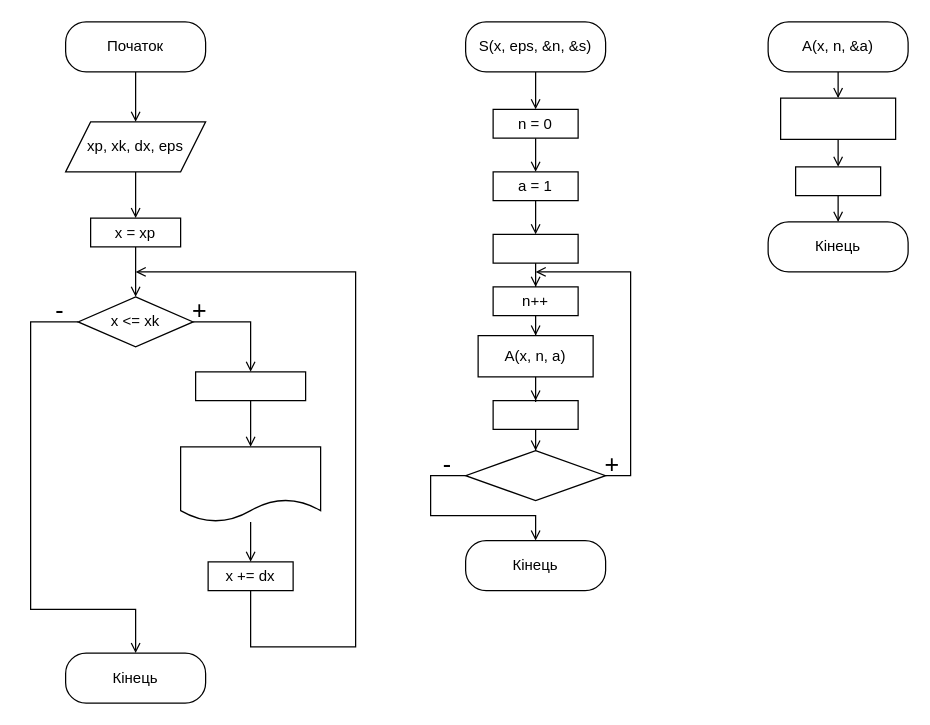
This 930x725 diagram has some shape labels left out. Here are the shapes that lost their labels. From the top down, the centre of each, then its label:
point (837, 118): R = -(x*x)/n
point (837, 181): a *= R
point (535, 248): S = a
point (250, 386): S(x, eps, n, s)
point (535, 414): S += a
point (250, 484): x, exp(-(x*x)), S, n
point (535, 475): abs(a) >= eps
